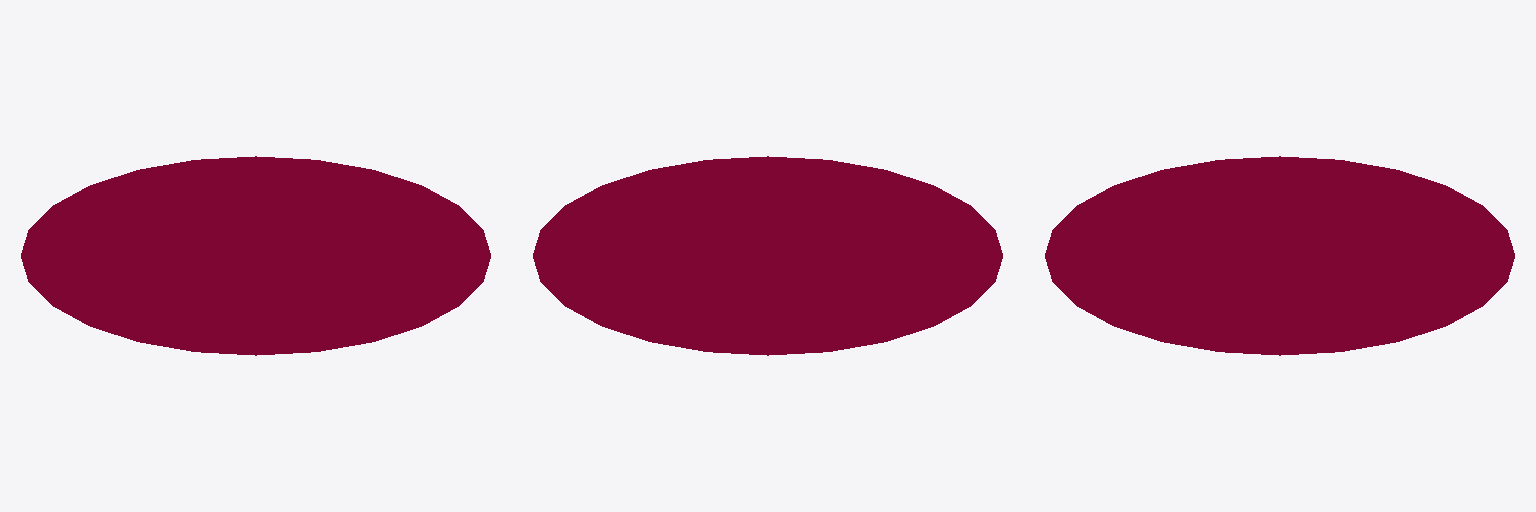
The model's file is plate3.obj.
The picture shows the model from 3 angles: view 1: azimuth 30°, elevation 25°; view 2: azimuth 150°, elevation 25°; view 3: azimuth 270°, elevation 25°; orthographic projection.
Visible parts, largest first — view 1: Cylinder001; view 2: Cylinder001; view 3: Cylinder001.
Boxes of the visible parts, box(x1,y1,x2,y2) form: Cylinder001: box(21, 156, 490, 355); Cylinder001: box(533, 156, 1002, 355); Cylinder001: box(1045, 156, 1514, 355).
Bounding box in the file's own units: 64 × 0 × 64.